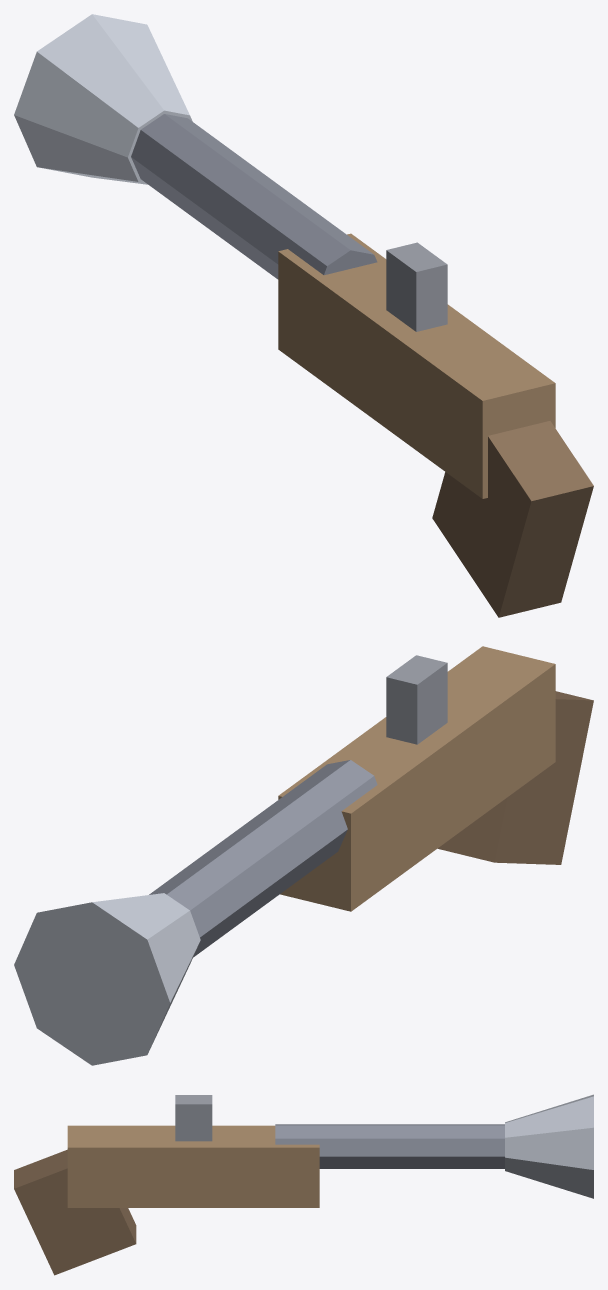
File: gun_blunderbuss.glb
3 renders of one model, top to bottom at view 1: azimuth 30°, elevation 25°; view 2: azimuth 150°, elevation 25°; view 3: azimuth 270°, elevation 25°, orthographic. The views are drawn at different scales.
Parts seen in each view (by area): view 1: gun_blunderbuss_00, gun_blunderbuss_01, gun_blunderbuss_03, gun_blunderbuss_02, gun_blunderbuss_04; view 2: gun_blunderbuss_00, gun_blunderbuss_03, gun_blunderbuss_02, gun_blunderbuss_01, gun_blunderbuss_04; view 3: gun_blunderbuss_00, gun_blunderbuss_02, gun_blunderbuss_01, gun_blunderbuss_03, gun_blunderbuss_04.
Part boxes in pixels (x1,y1,x2,y2): gun_blunderbuss_00: (278, 233, 555, 498); gun_blunderbuss_01: (432, 421, 593, 617); gun_blunderbuss_03: (14, 14, 192, 184); gun_blunderbuss_02: (131, 114, 377, 279); gun_blunderbuss_04: (386, 242, 447, 331); gun_blunderbuss_00: (278, 646, 555, 911); gun_blunderbuss_03: (14, 893, 200, 1065); gun_blunderbuss_02: (149, 760, 377, 957); gun_blunderbuss_01: (437, 691, 593, 864); gun_blunderbuss_04: (386, 655, 447, 744); gun_blunderbuss_00: (67, 1125, 319, 1207); gun_blunderbuss_02: (275, 1124, 504, 1168); gun_blunderbuss_01: (14, 1149, 136, 1275); gun_blunderbuss_03: (505, 1094, 593, 1198); gun_blunderbuss_04: (175, 1095, 212, 1141).
Bounding box in the file's own units: 0.15 × 0.2528 × 0.7825.
